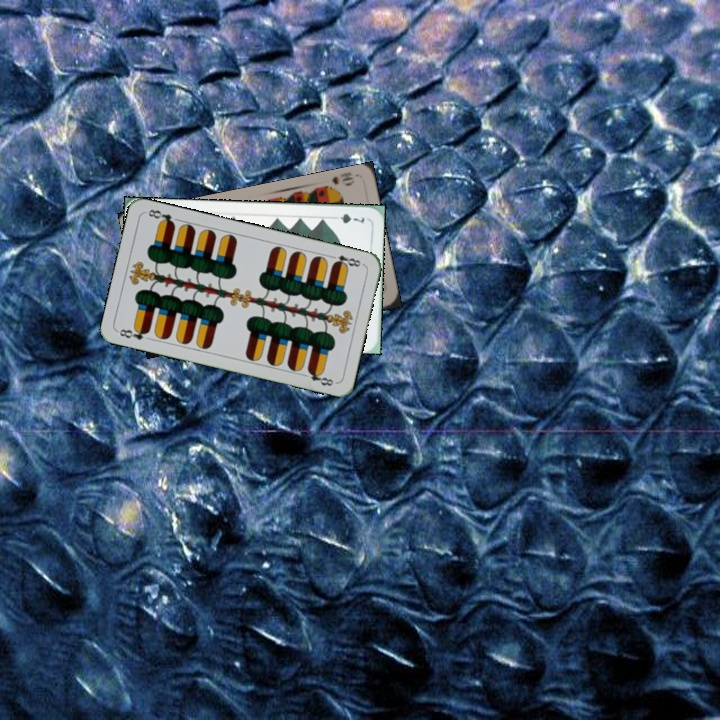E8: (326, 251, 366, 270), (114, 323, 152, 342)
G7: (328, 209, 367, 226)
S10: (320, 169, 357, 194)
